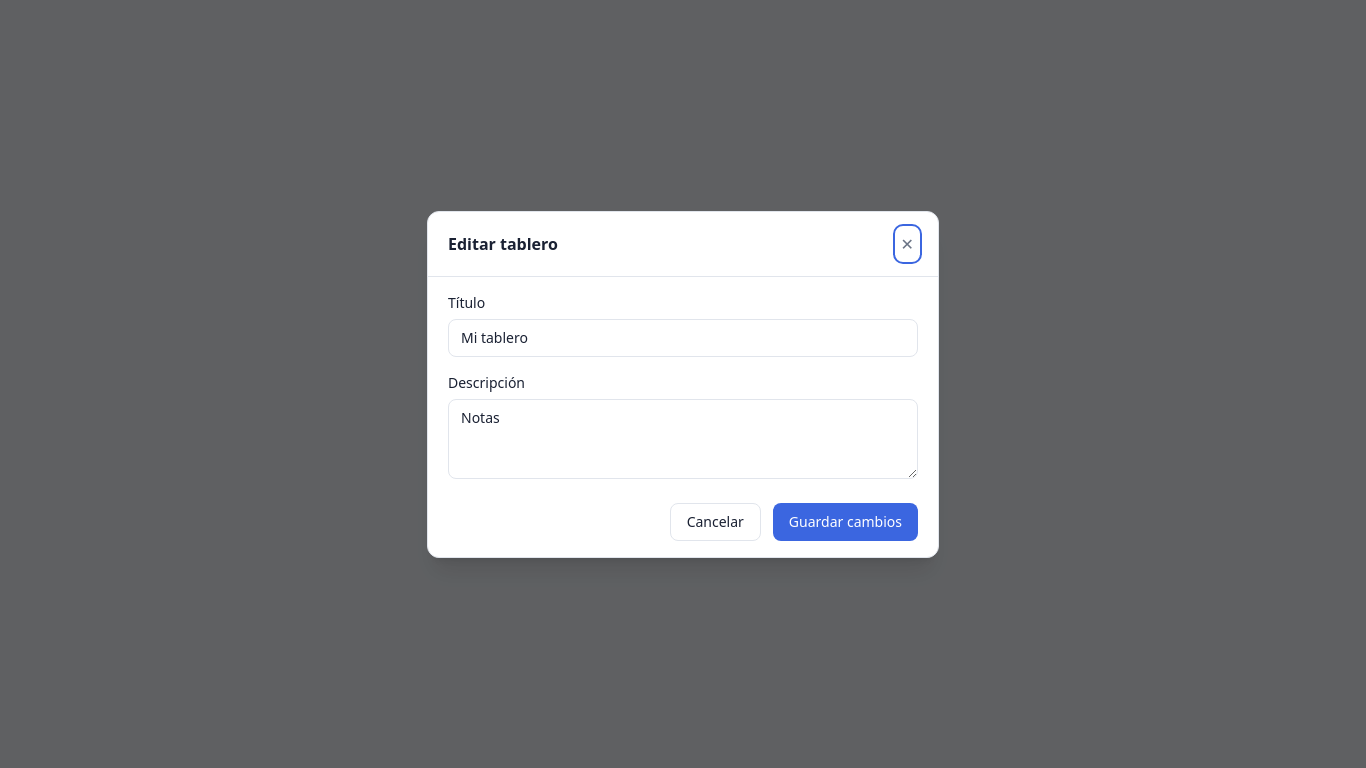
EditBoardModal › precarga los datos y guarda los cambios
Expected: the text box labelled "Descripción" holds "Notas", [448,398,918,478]
Replace the text in the field labelled "Título" with "Renombrado" at (683, 338), box [448,318,918,356]
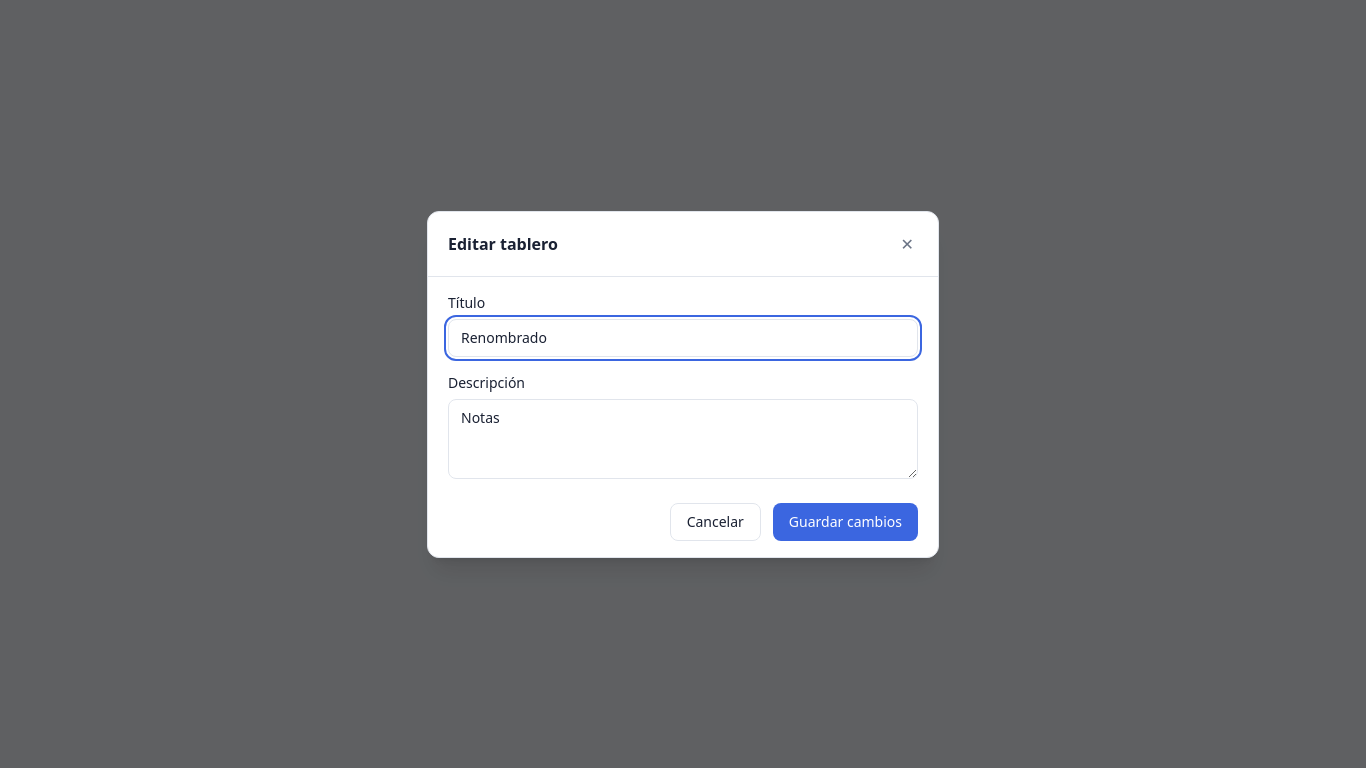
Click the button "Guardar cambios" at (845, 522), box [773,502,918,540]
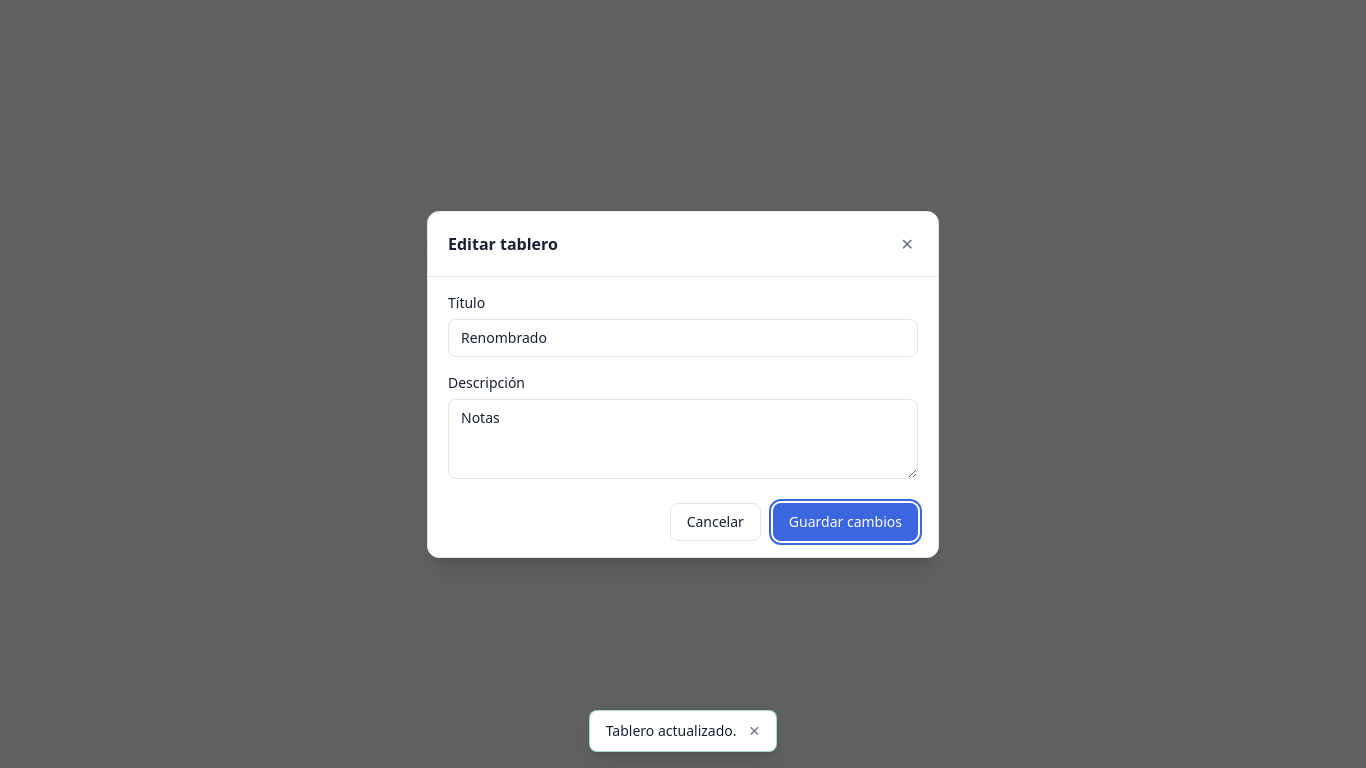
Expected: the text "Tablero actualizado." is shown, [606,721,737,741]
